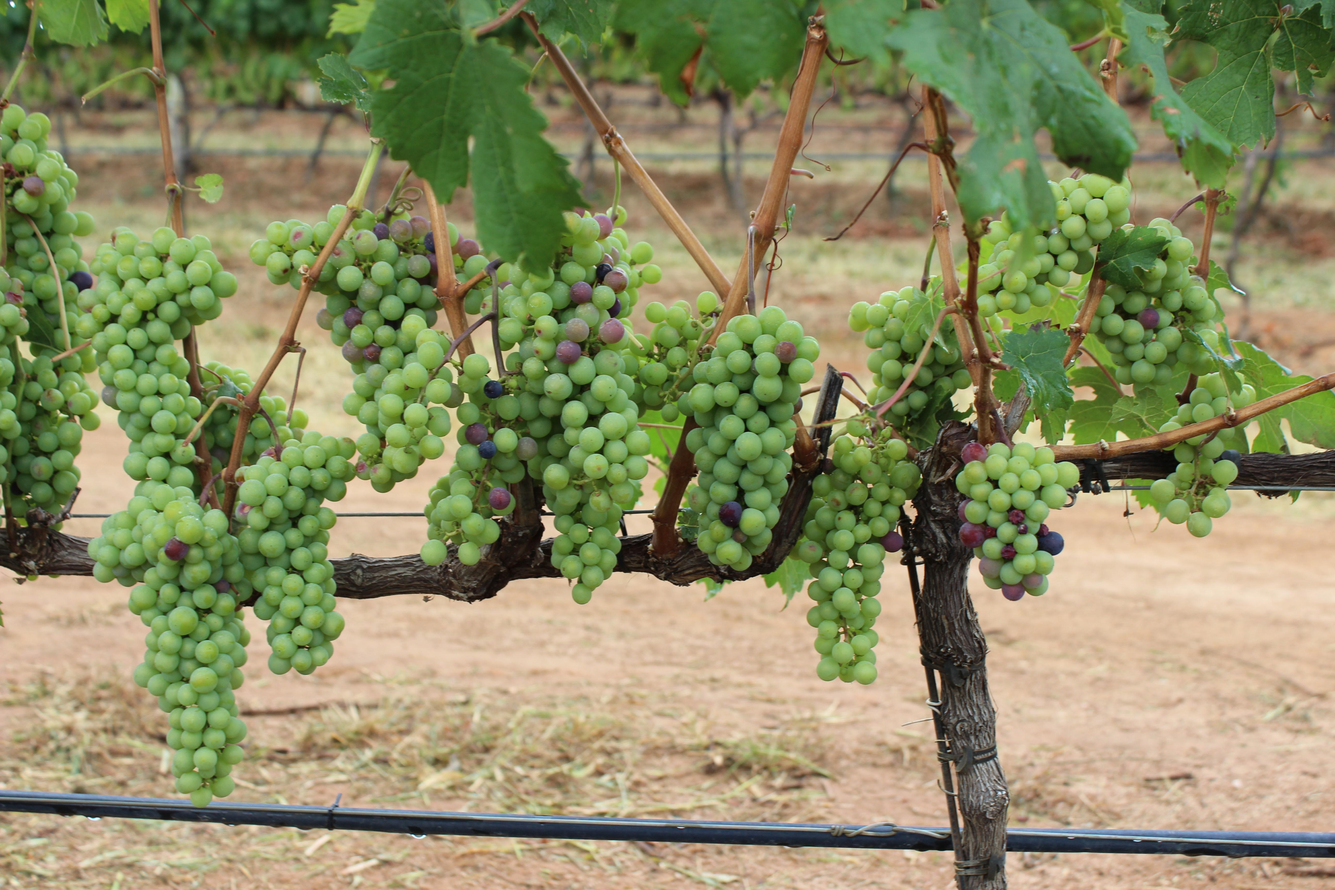leaf: (349, 0, 583, 268), (887, 0, 1136, 227), (466, 41, 583, 268), (1119, 0, 1235, 188), (1174, 0, 1280, 145), (614, 0, 714, 105), (706, 0, 806, 97), (1002, 326, 1074, 442), (1273, 7, 1335, 95), (823, 0, 903, 62), (1098, 226, 1169, 290), (525, 0, 613, 45), (37, 0, 108, 46), (318, 53, 371, 111), (762, 555, 811, 607), (327, 0, 376, 36), (106, 0, 149, 33), (193, 173, 224, 203), (414, 168, 415, 168)
